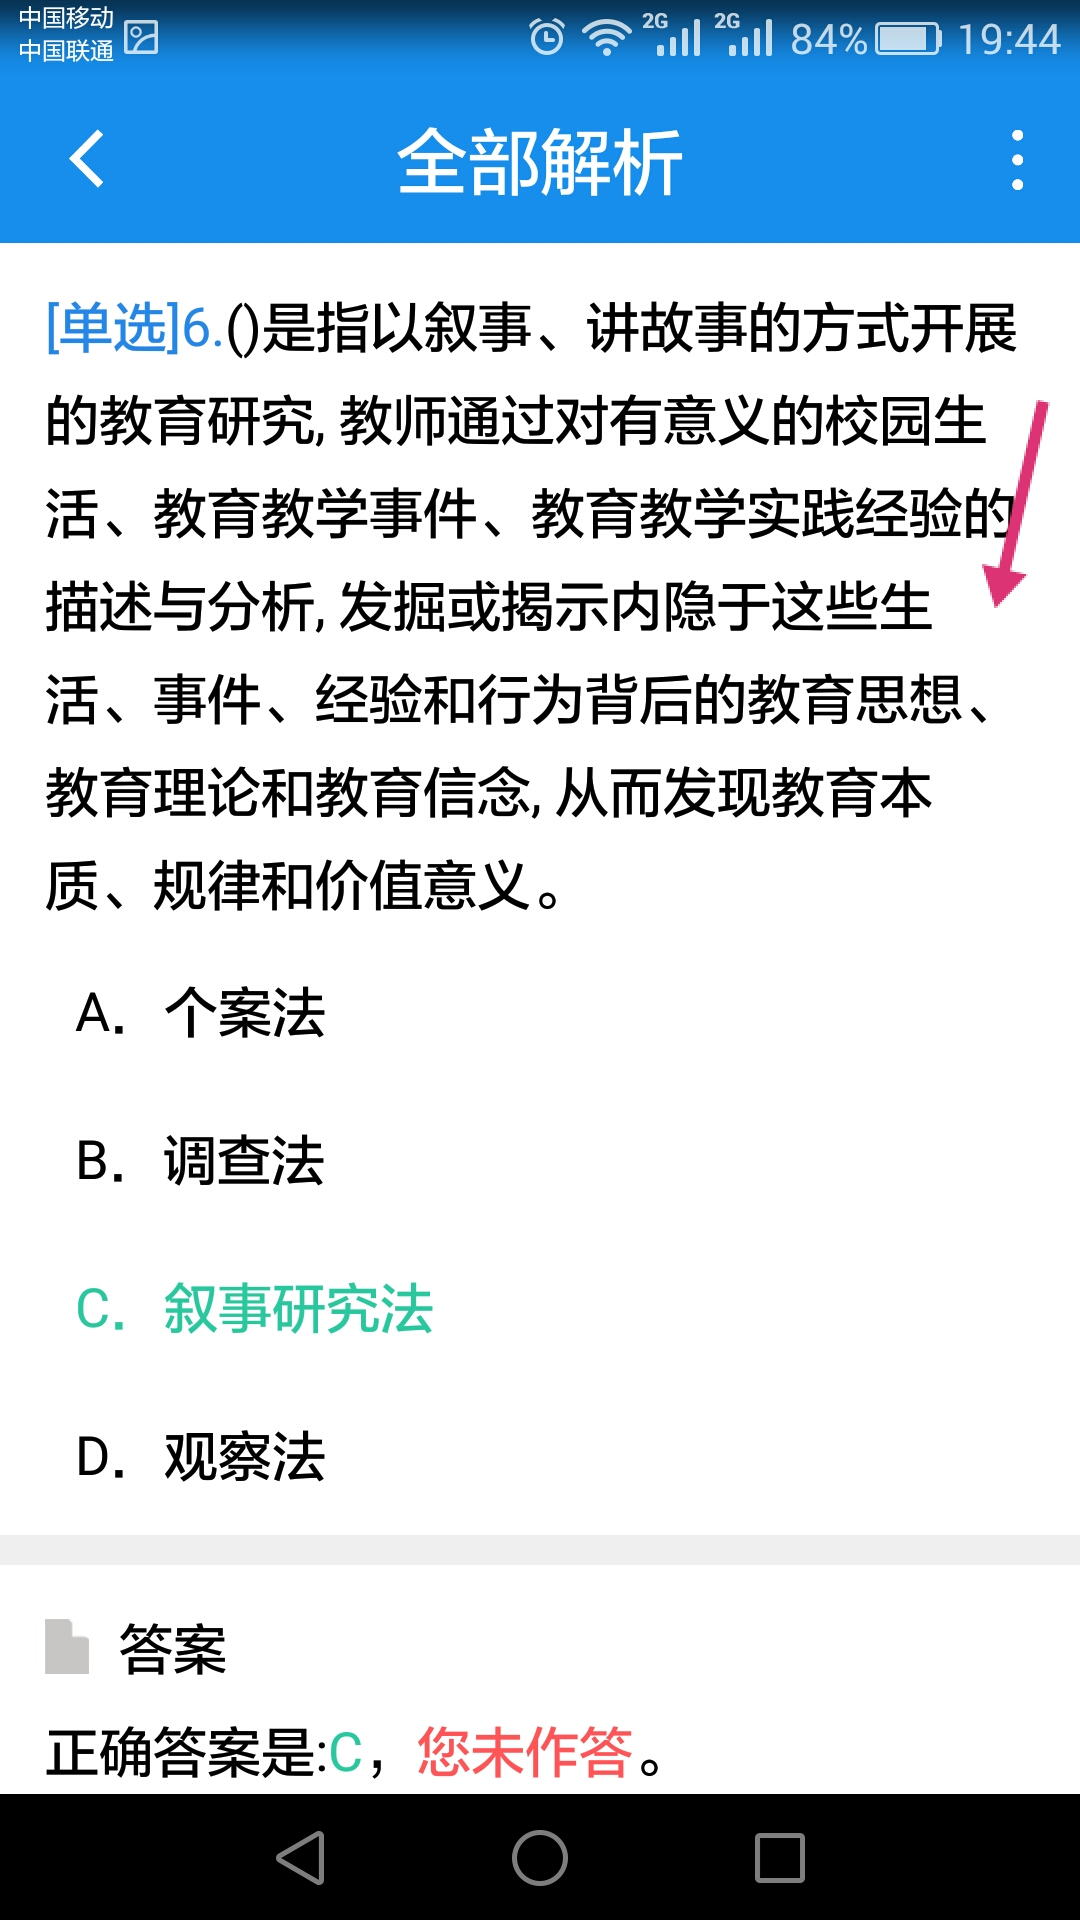imgbutton: (959, 96, 1069, 225)
textview: (1, 258, 1044, 1509)
